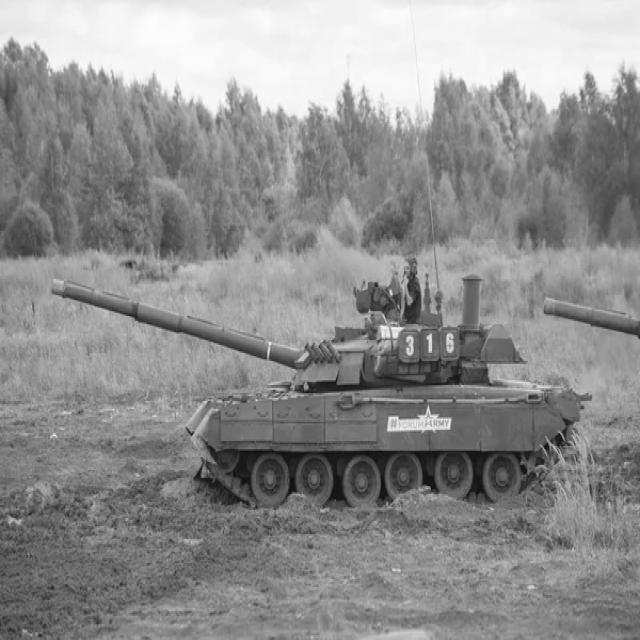Tank: (42, 260, 598, 506)
